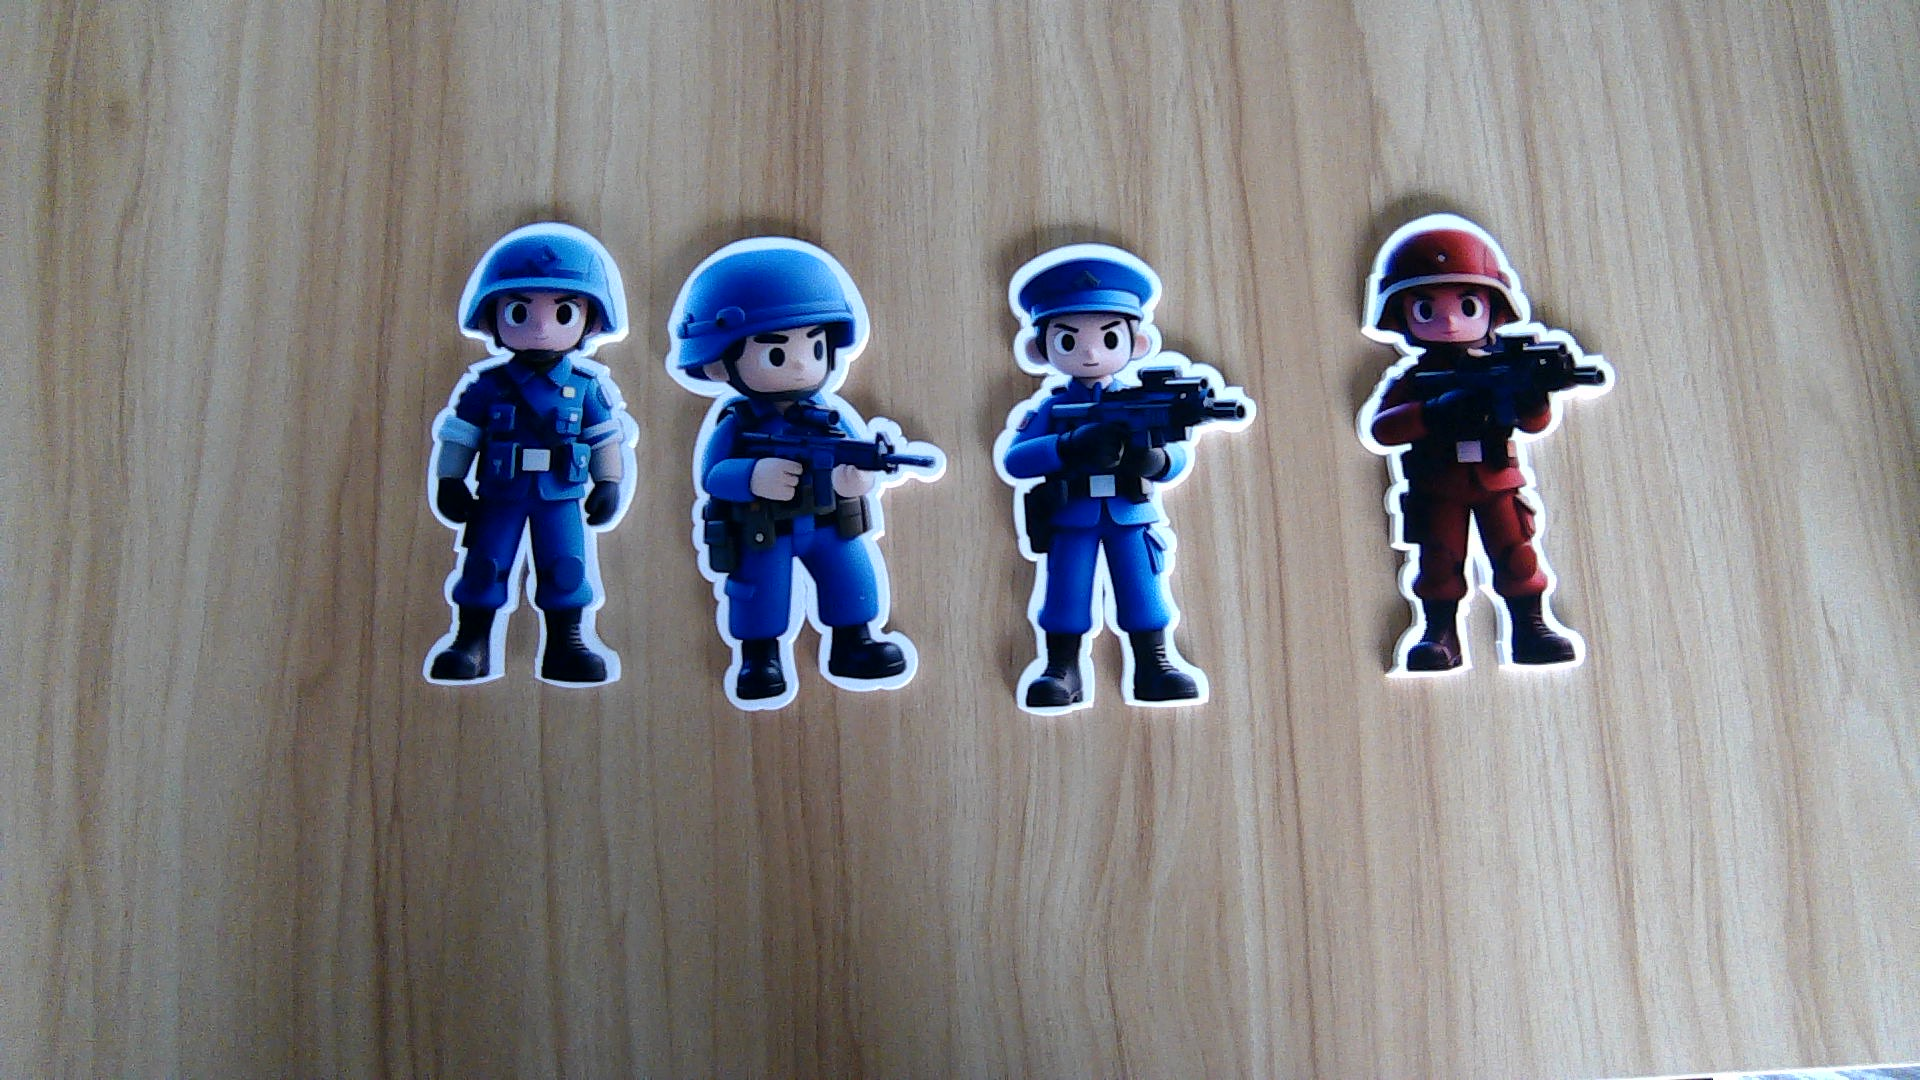敌人1: (1337, 345, 1619, 684)
敌人2: (980, 372, 1255, 717), (683, 400, 949, 711), (422, 357, 638, 684)
